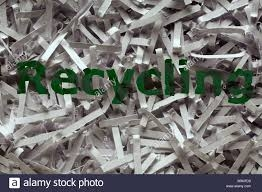paper: (4, 16, 96, 69), (6, 137, 130, 174), (156, 33, 262, 76), (1, 88, 63, 158), (172, 89, 246, 145), (79, 3, 159, 53), (162, 1, 262, 40), (139, 108, 196, 174), (58, 102, 106, 144), (100, 110, 142, 128)
